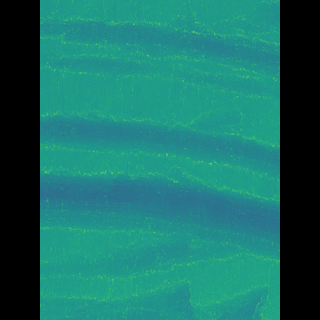Loch: (68, 163, 251, 269), (69, 0, 249, 98), (69, 108, 250, 186), (69, 272, 242, 320)
